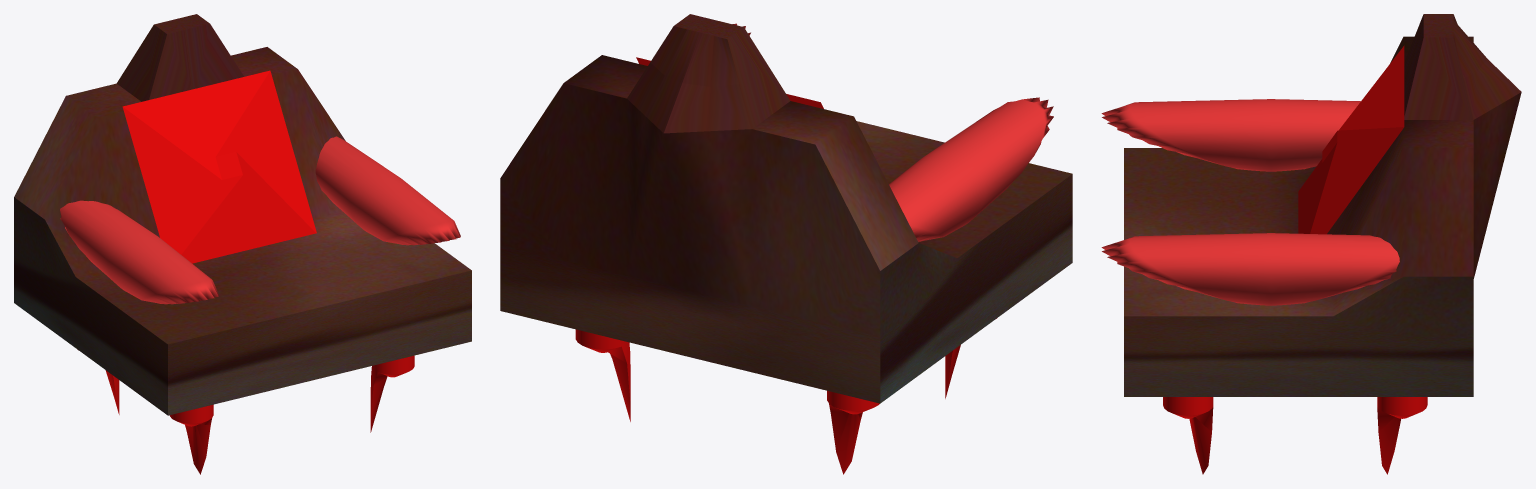
Rendered from Reclinomaster.fbx.
The picture shows the model from 3 angles, left to right: view 1: azimuth 30°, elevation 25°; view 2: azimuth 150°, elevation 25°; view 3: azimuth 270°, elevation 25°; orthographic projection. The views are drawn at different scales.
Parts seen in each view (by area): view 1: polySurface4, polySurface13, polySurface9, polySurface11, polySurface7, polySurface6; view 2: polySurface4, polySurface9, polySurface8, polySurface5; view 3: polySurface4, polySurface11, polySurface9, polySurface13, polySurface5, polySurface6.
Boxes of the visible parts, x1,y1,x2,y2 form: polySurface4: [14, 14, 471, 415]; polySurface13: [122, 70, 316, 263]; polySurface9: [60, 200, 218, 304]; polySurface11: [315, 136, 460, 245]; polySurface7: [169, 404, 213, 474]; polySurface6: [370, 355, 414, 432]; polySurface4: [500, 14, 1072, 403]; polySurface9: [889, 97, 1053, 241]; polySurface8: [827, 390, 879, 474]; polySurface5: [575, 329, 630, 421]; polySurface4: [1124, 14, 1521, 396]; polySurface11: [1101, 233, 1399, 305]; polySurface9: [1101, 99, 1360, 171]; polySurface13: [1298, 45, 1404, 234]; polySurface5: [1377, 397, 1427, 474]; polySurface6: [1163, 397, 1213, 474].
Bounding box in the file's own units: 2.85 × 3.18 × 3.01.
4 materials, 1 textured.
